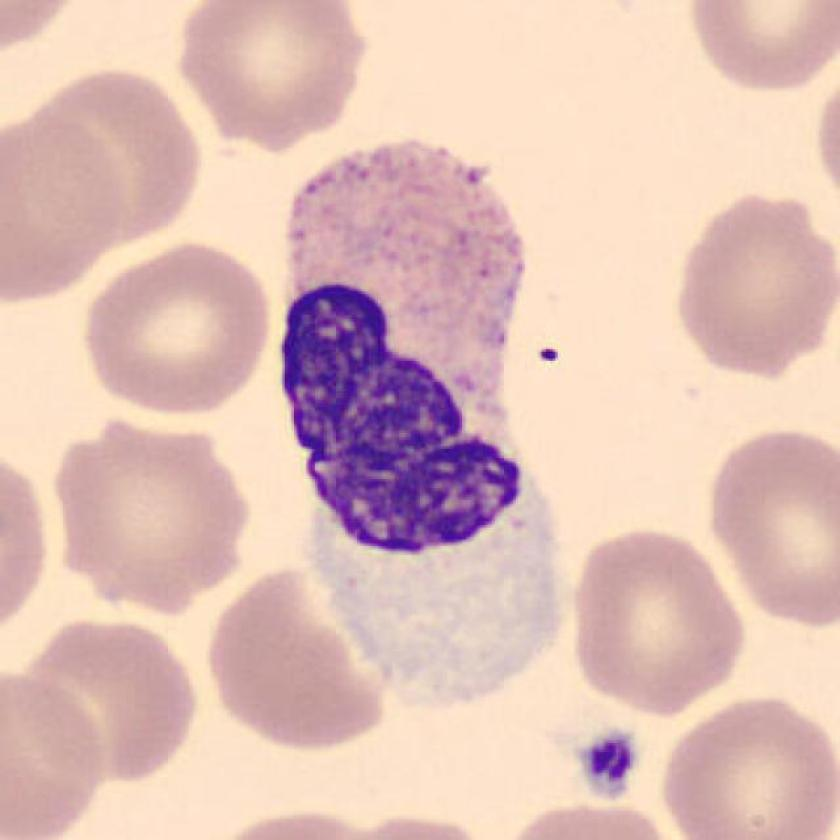neutrophil: (286, 140, 565, 710)
